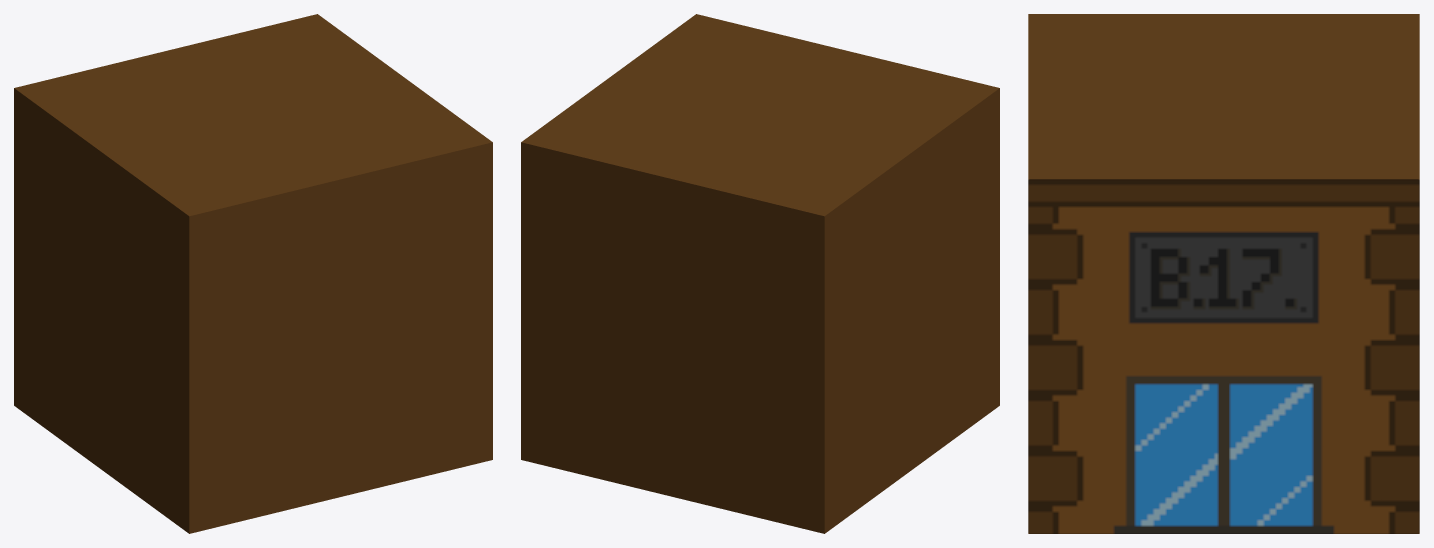
Rendered from BrickBuildingBrown_2_128x128_Ground03.fbx.
The picture shows the model from 3 angles, left to right: view 1: azimuth 30°, elevation 25°; view 2: azimuth 150°, elevation 25°; view 3: azimuth 270°, elevation 25°; orthographic projection. The views are drawn at different scales.
Parts seen in each view (by area): view 1: Ground03; view 2: Ground03; view 3: Ground03.
Part boxes in pixels (left/top/right/bottom): Ground03: left=14, top=14, right=492, bottom=533; Ground03: left=521, top=14, right=999, bottom=533; Ground03: left=1028, top=14, right=1419, bottom=533.
Size of the model in its own units: 100 by 100 by 100.
Materials: 1 (1 with a texture image).
